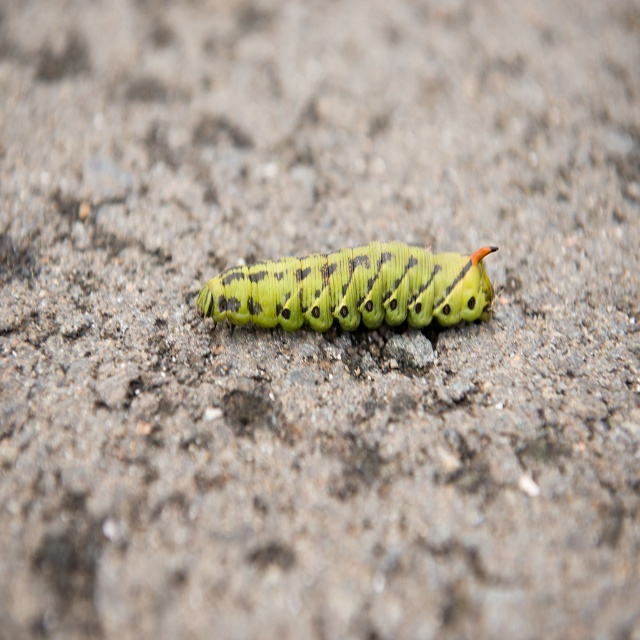Caterpillar: (195, 242, 495, 332)
